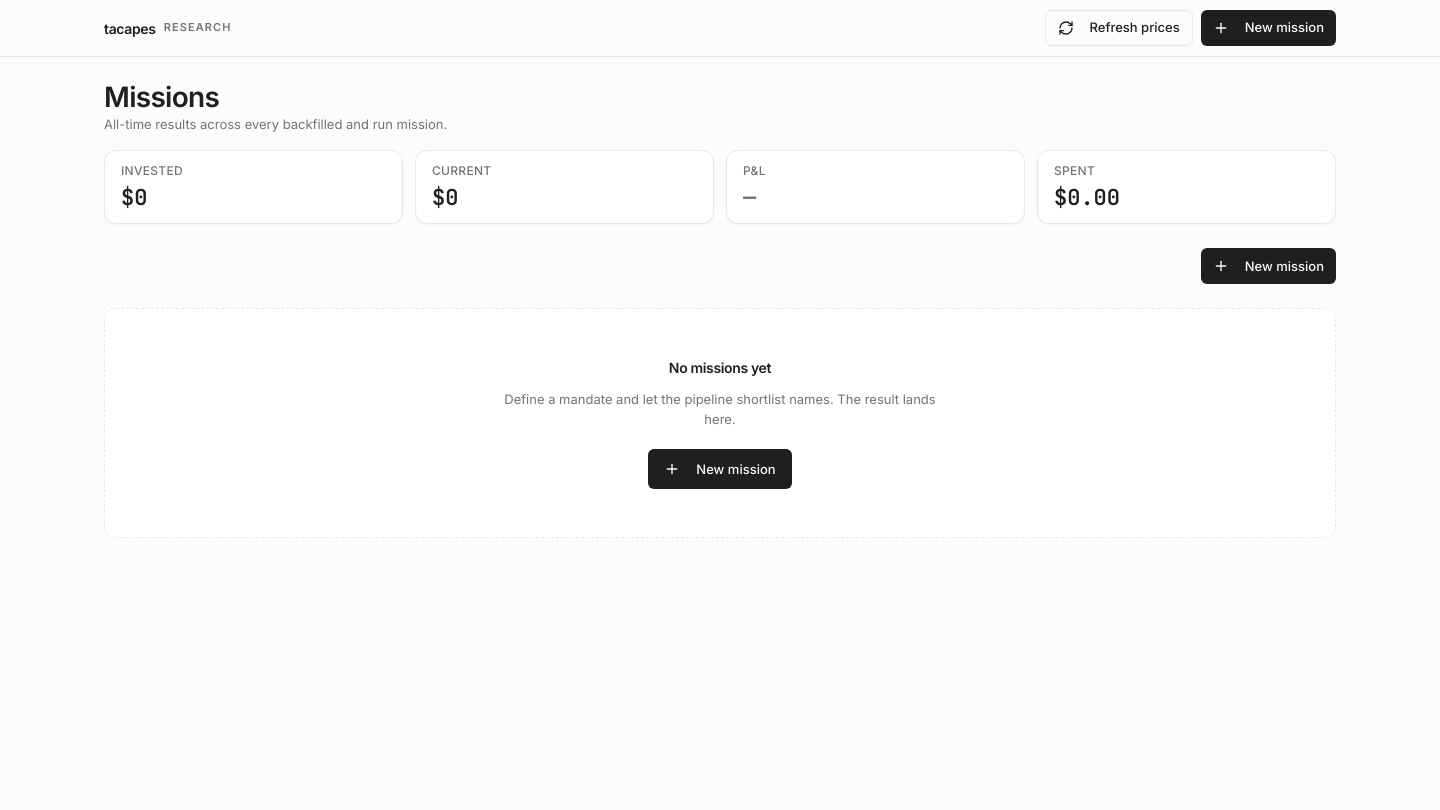
it: MissionListPage › creates a mission, closes the dialog, and navigates to detail
Check: the element with test id "empty-state" is shown, box [104,308,1336,538]
Step 1. Click the button with test id "list-new-mission" → (1268, 266), box [1201,248,1336,284]
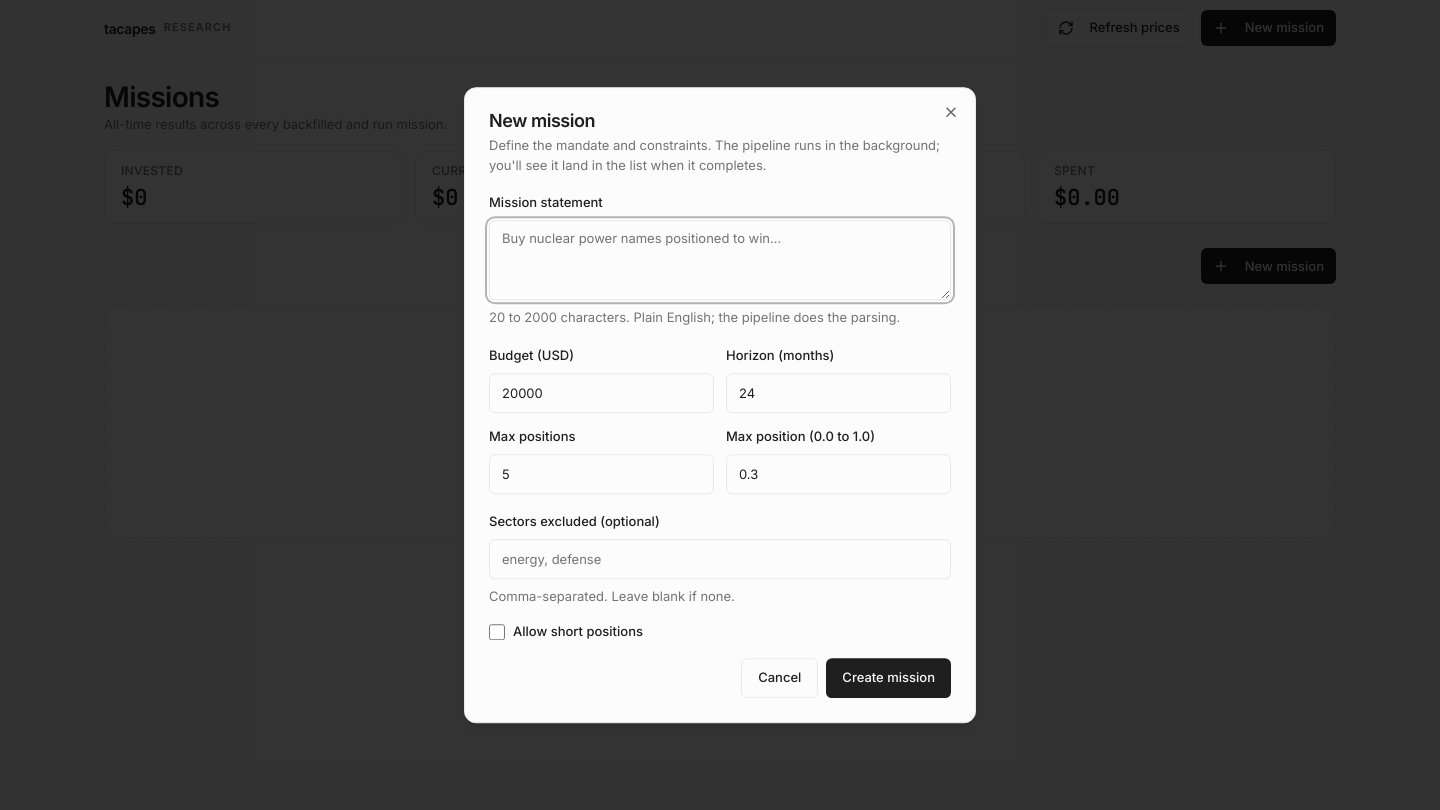
Step 2. Type "Buy nuclear power names positioned to win the data-center buildout" into the text box labelled "Mission statement" → (720, 260), box [489,220,951,300]
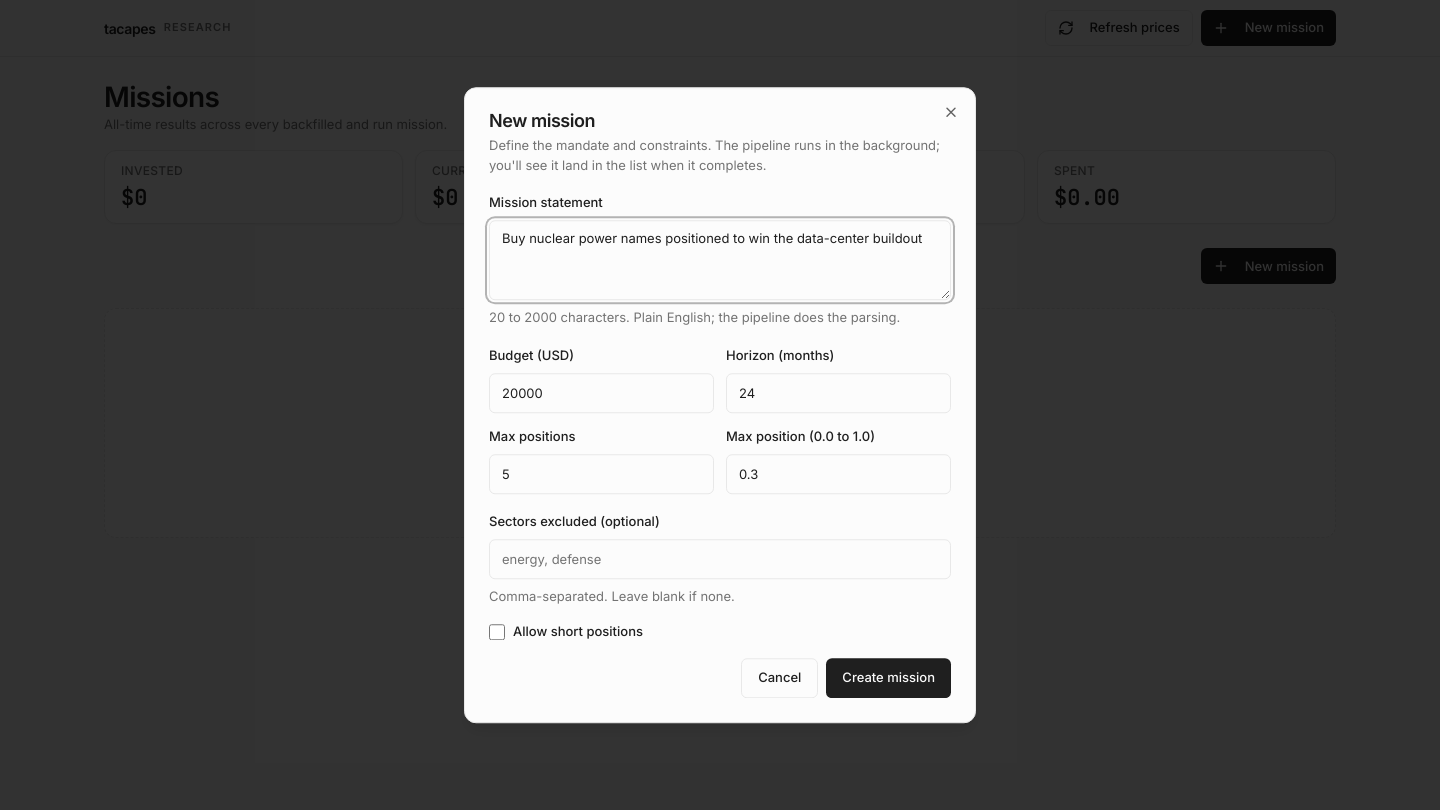
Step 3. Click the button "Create mission" → (889, 678), box [826,658,951,698]
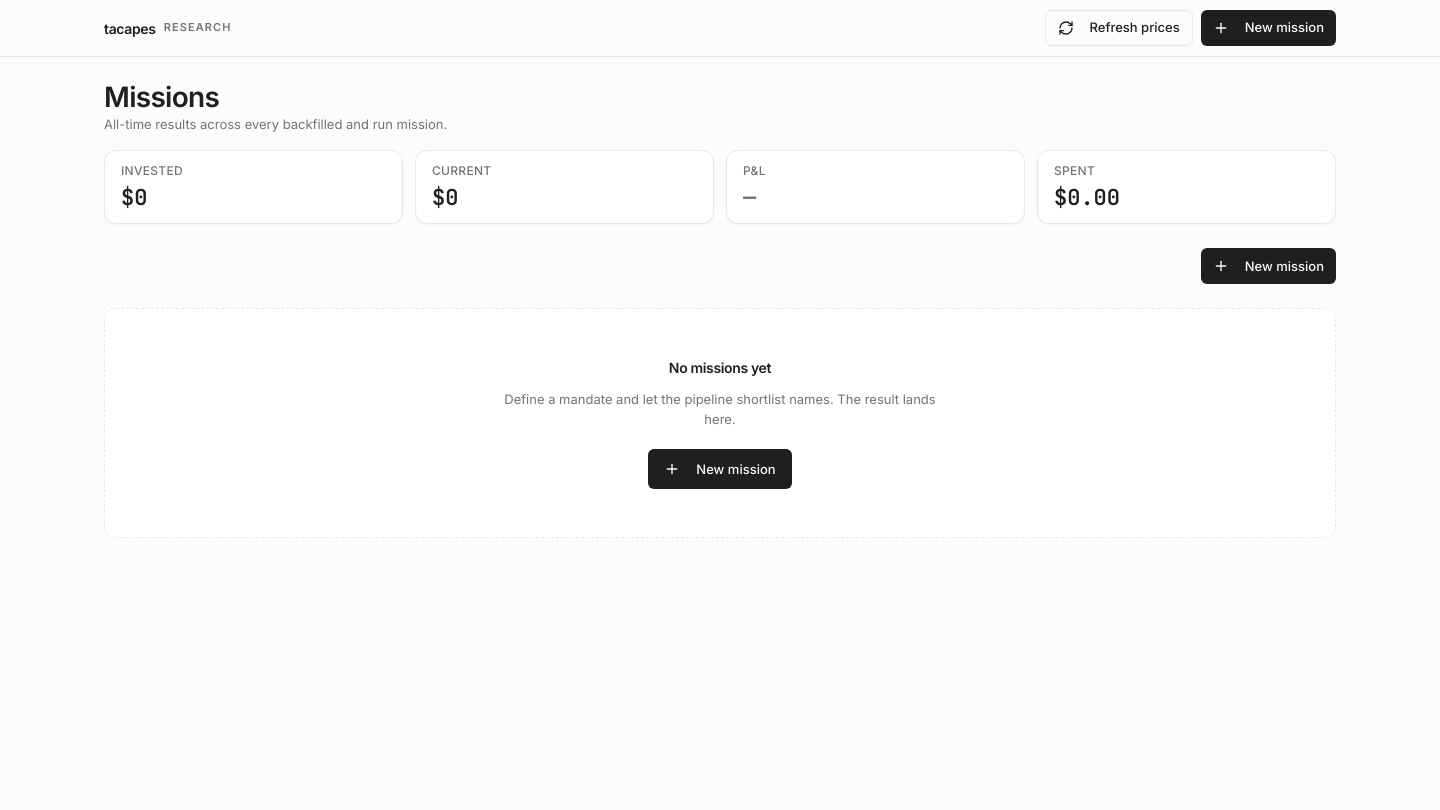
Check: the form with test id "new-mission-form" is gone
